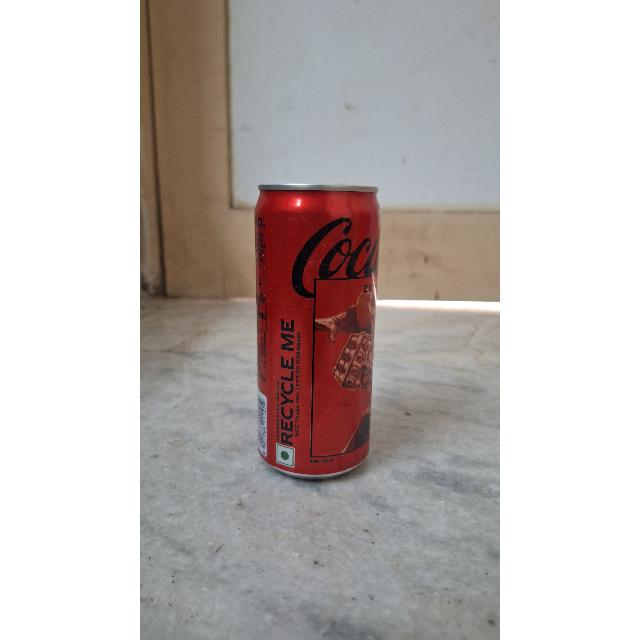Coca Cola Zero: (256, 178, 374, 470)
